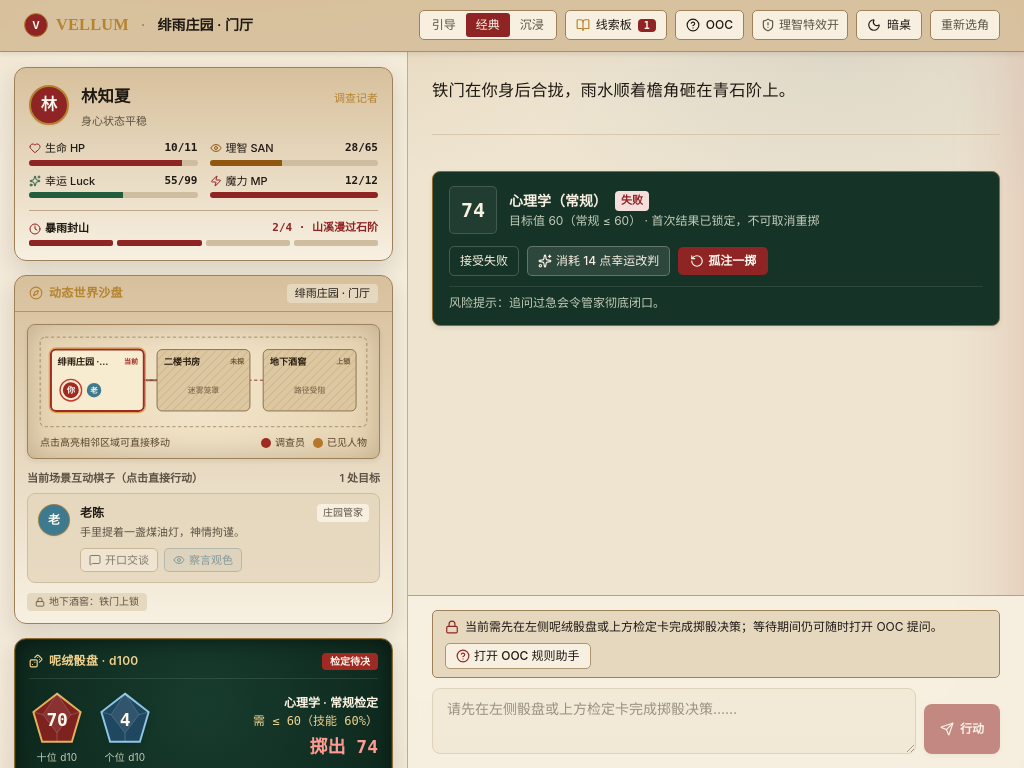
Test: WorkspaceFlow end-to-end UI interactions › locks main action composer during PendingInterrupt while keeping OOC drawer openable and functional
Check: the text "心理学（常规）" is shown, box top-left (509, 191), bottom-right (607, 211)
Check: the text box named "输入你的调查行动或发言" is disabled, box top-left (432, 688), bottom-right (916, 754)
# Open OOC assistant directly from the locked composer notice button
Click the button "打开 OOC 规则助手" at (518, 656), box top-left (445, 643), bottom-right (591, 669)
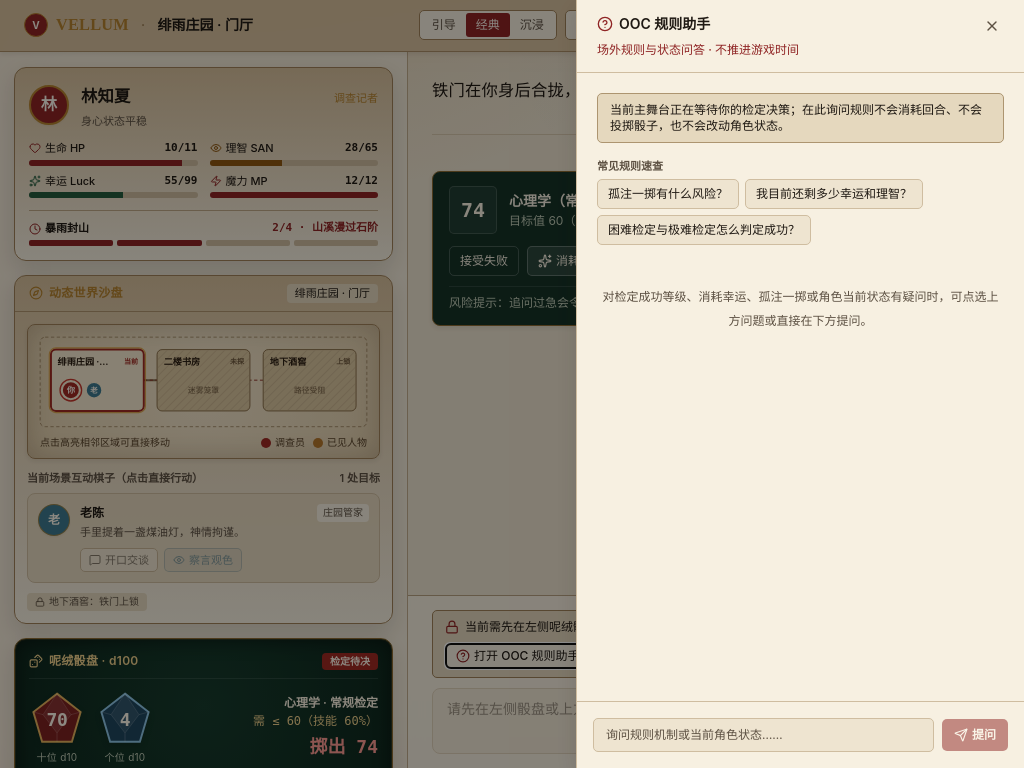
Check: the dialog named "OOC 场外规则助手" is shown
Check: the text "场外规则与状态问答 · 不推进游戏时间" is shown, box top-left (597, 42), bottom-right (799, 58)
# Submit OOC question while main turn remains locked
Type "我目前还剩多少幸运和理智？" into the field named "输入场外规则或状态问题" at (764, 735), box top-left (593, 718), bottom-right (934, 752)
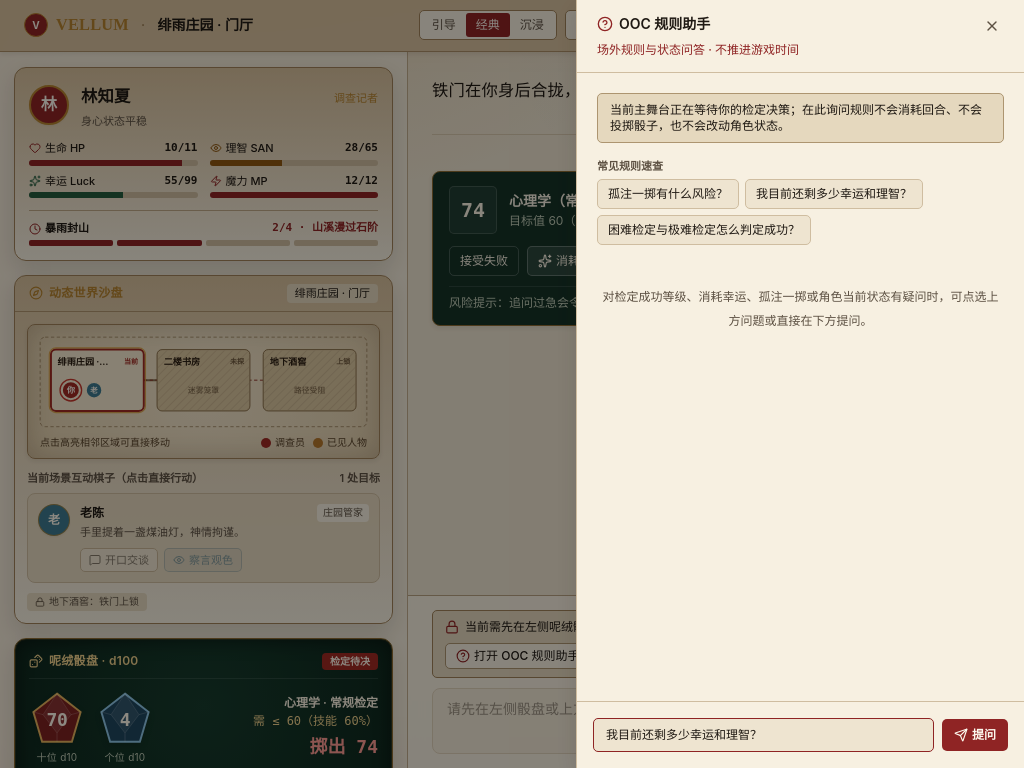
Click the button "提问" at (975, 735), box top-left (942, 719), bottom-right (1008, 751)
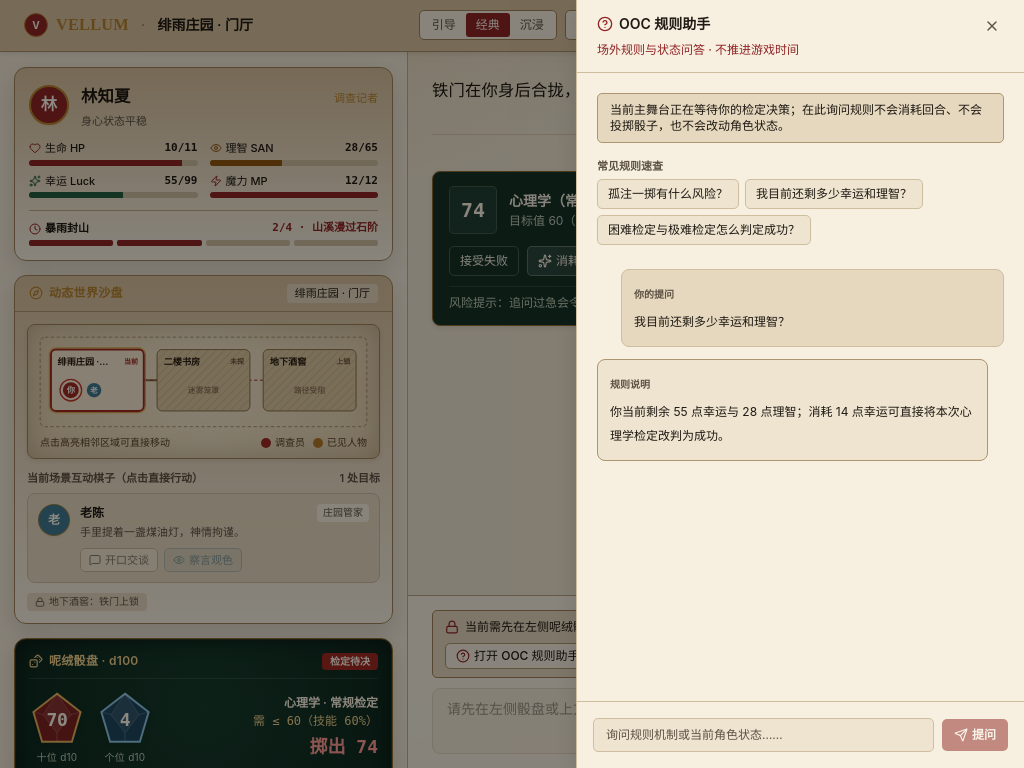
Check: the text box named "输入你的调查行动或发言" is disabled, box top-left (432, 688), bottom-right (916, 754)
Check: the text "你当前剩余 55 点幸运与 28 点理智；消耗 14 点幸运可直接将本次心理学检定改判为成功。" is shown, box top-left (610, 400), bottom-right (975, 448)
